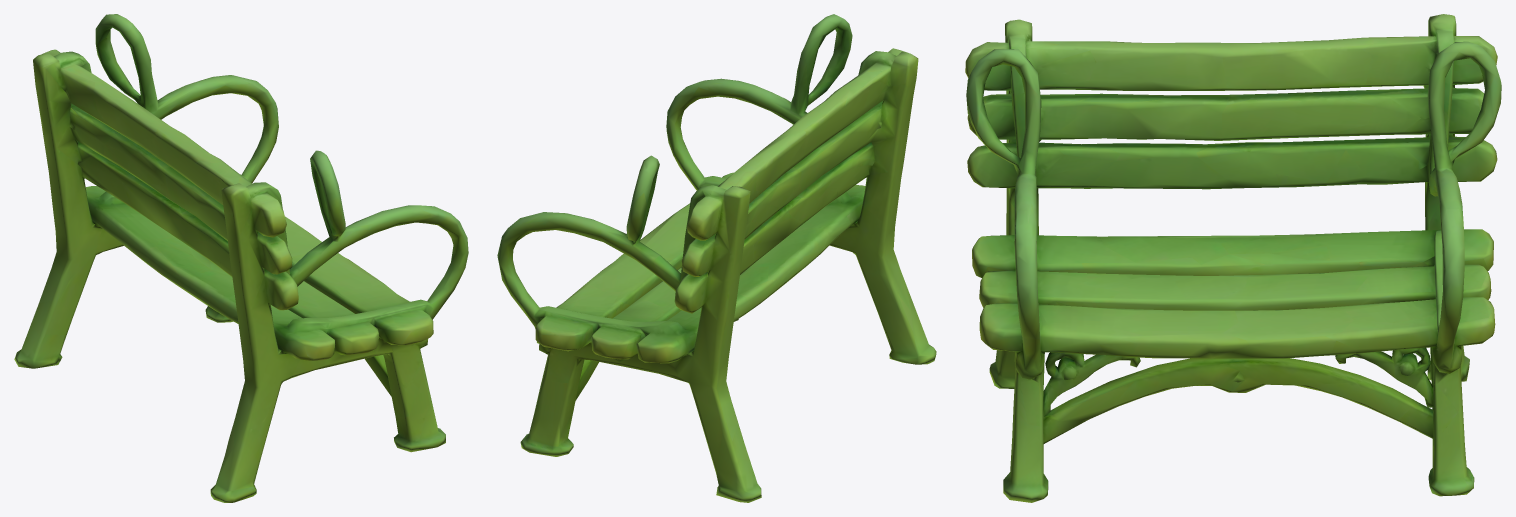
File: bench.glb
3 views of the same model, side by side, from view 1: azimuth 30°, elevation 25°; view 2: azimuth 150°, elevation 25°; view 3: azimuth 270°, elevation 25° (orthographic). The views are drawn at different scales.
Visible parts, largest first — view 1: tripo_node_9a81ac05-d653-4581-a110-777a137c520b; view 2: tripo_node_9a81ac05-d653-4581-a110-777a137c520b; view 3: tripo_node_9a81ac05-d653-4581-a110-777a137c520b.
Part boxes in pixels (x1,y1,x2,y2): tripo_node_9a81ac05-d653-4581-a110-777a137c520b: [14, 14, 468, 502]; tripo_node_9a81ac05-d653-4581-a110-777a137c520b: [497, 14, 936, 502]; tripo_node_9a81ac05-d653-4581-a110-777a137c520b: [965, 14, 1501, 502].
Bounding box in the file's own units: 0.7529 × 0.8501 × 1.09.
Materials: 1 (1 with a texture image).
